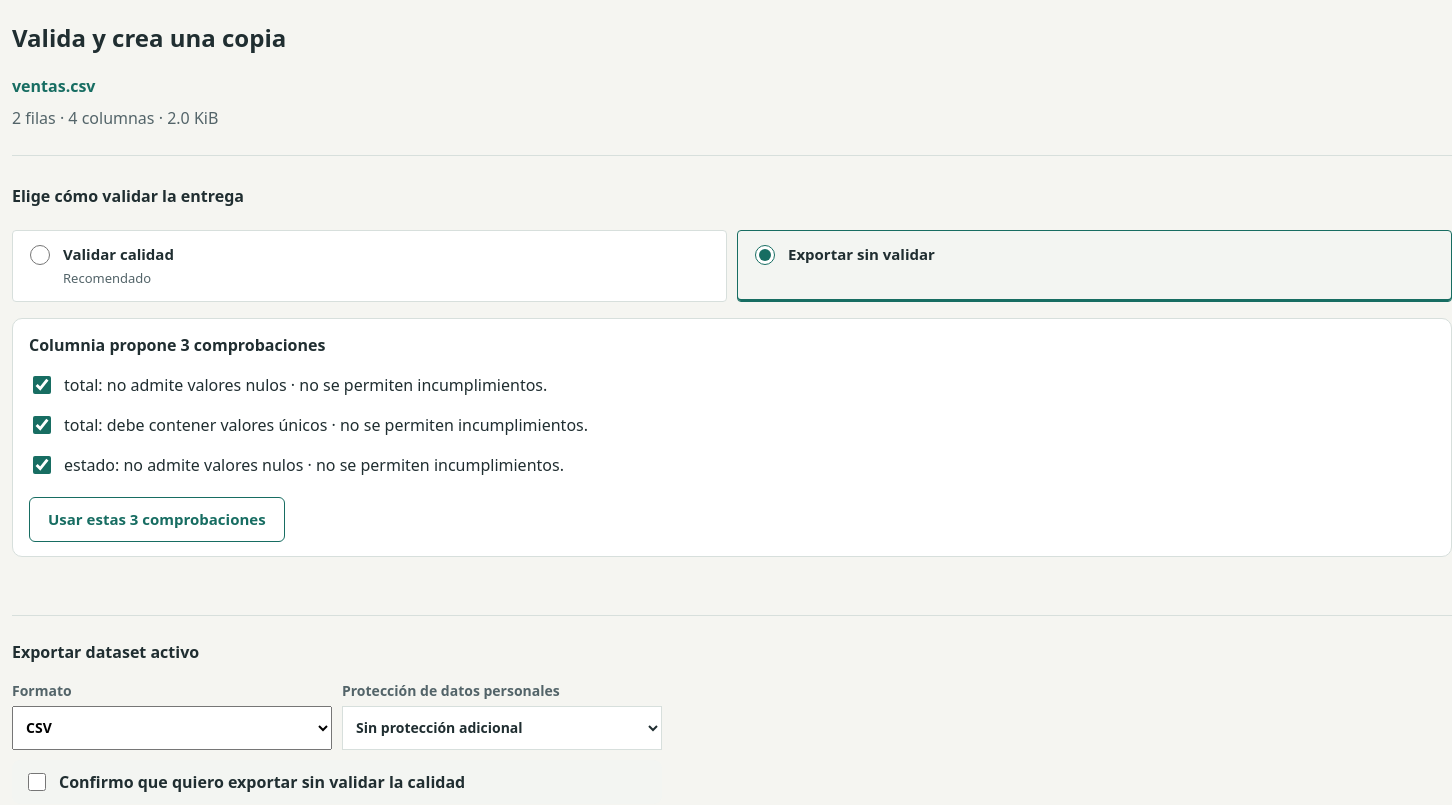
Test: comprobaciones propuestas en Entregar › usa las comprobaciones marcadas y valida antes de exportar
This screenshot has width=1452, height=805.
Click the checkbox labelled "estado": (42, 465) [33,456,51,474]
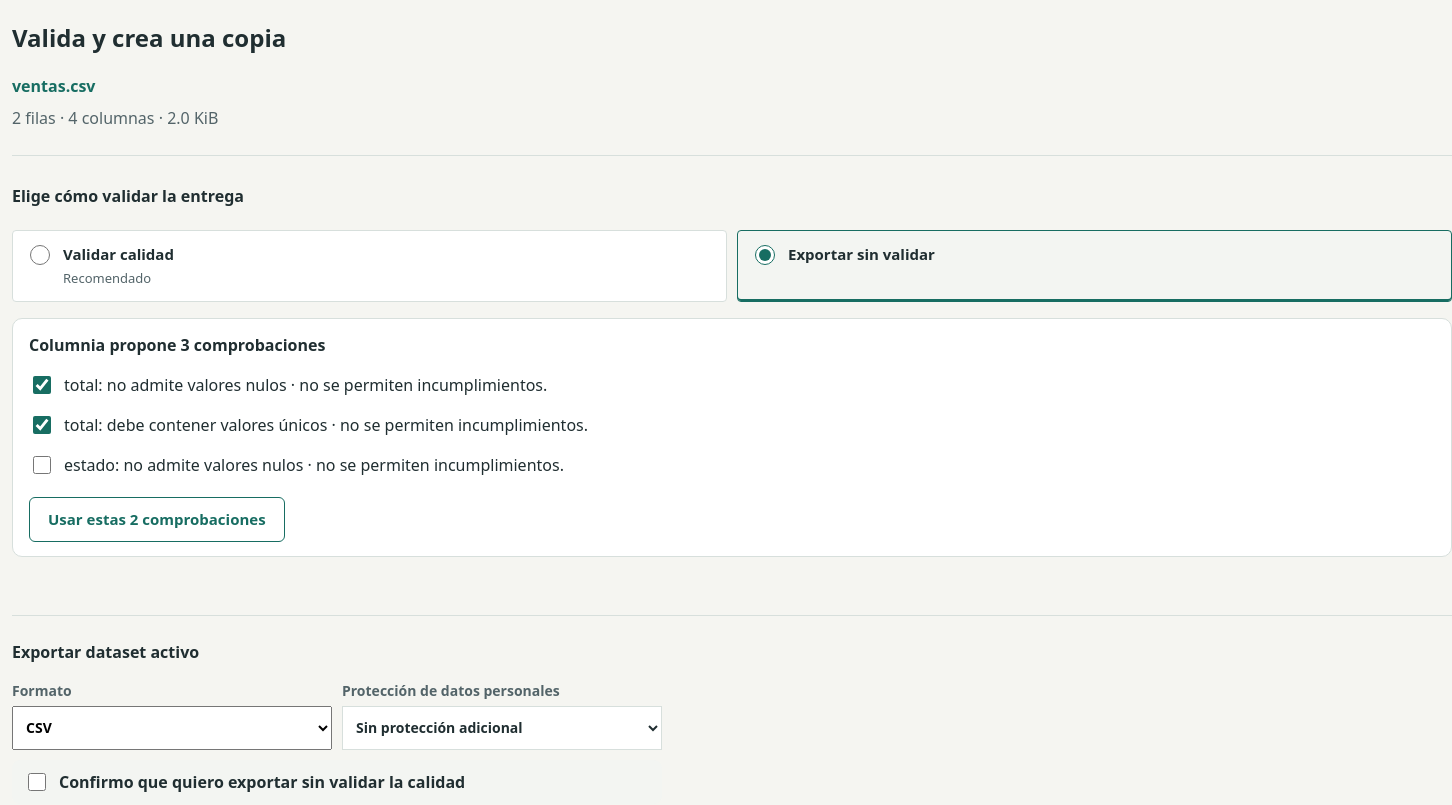
Click the button "Usar estas 2 comprobaciones": (157, 519) [29,497,285,542]
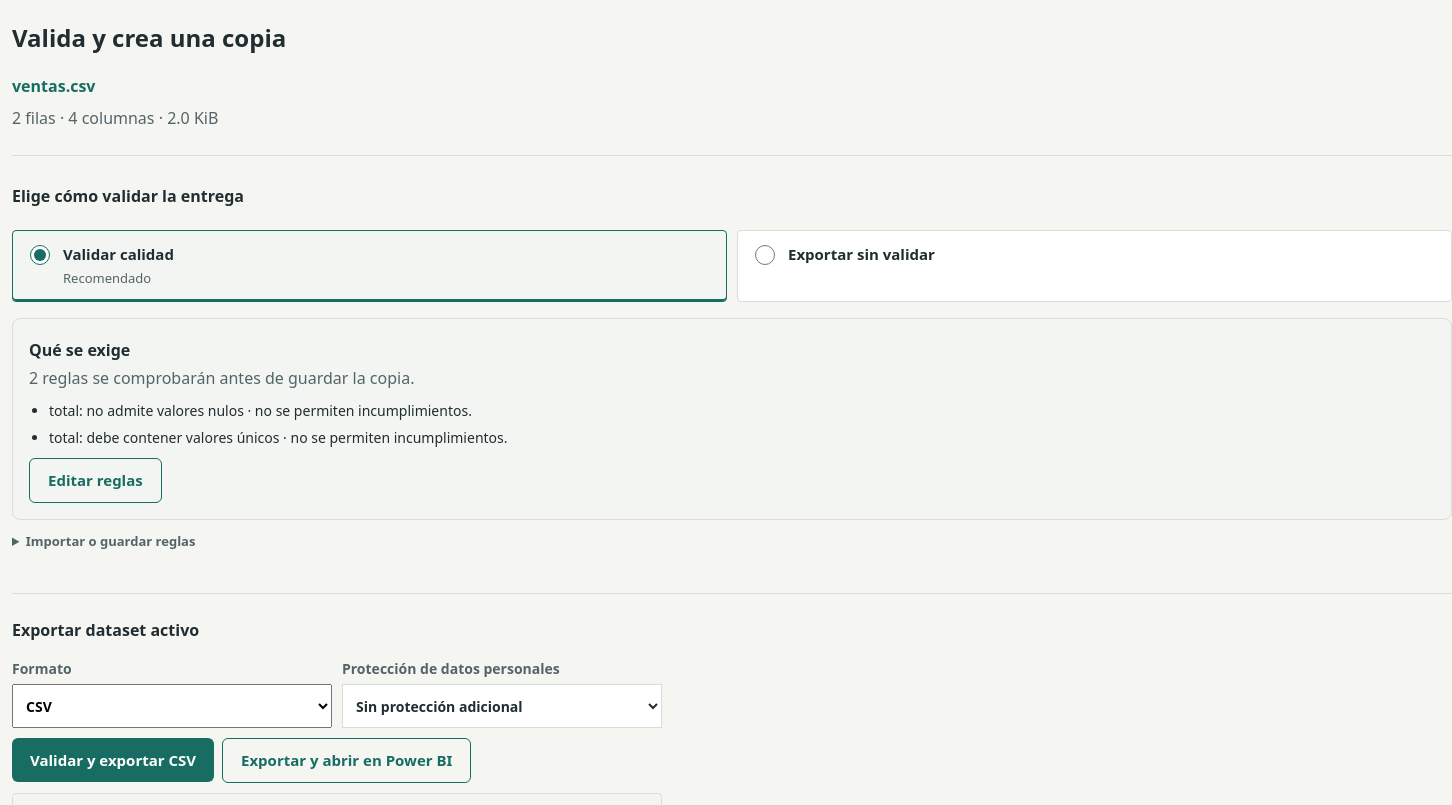
Result: the heading "Columnia propone" is gone
Result: the radio button labelled "Validar calidad Recomendado" is checked at [30,245,50,265]
Result: the text "2 reglas se comprobarán antes de guardar la copia." is shown at [29,367,414,389]
